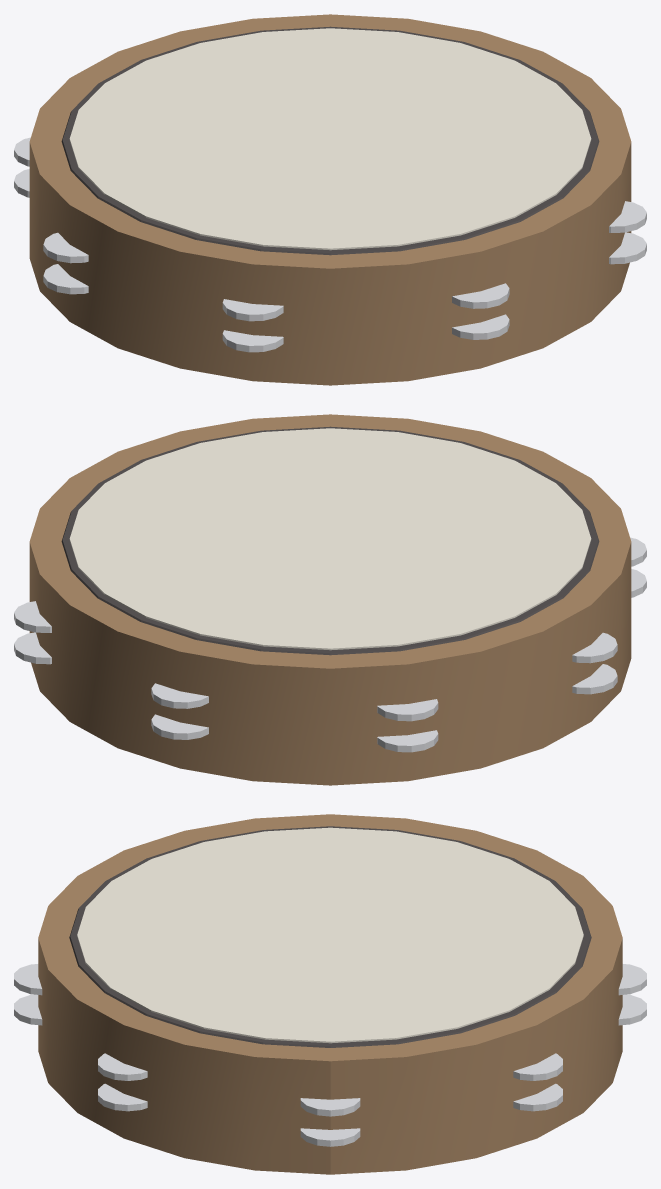
The model's file is orchestra-and-band-instruments-tambourine-6f4aeaca__39303.glb.
3 renders of one model, top to bottom at view 1: azimuth 30°, elevation 25°; view 2: azimuth 150°, elevation 25°; view 3: azimuth 270°, elevation 25°, orthographic. The views are drawn at different scales.
Visible parts, largest first — view 1: tambourine; view 2: tambourine; view 3: tambourine.
Part boxes in pixels (bbox=[...]): tambourine: bbox=[14, 14, 646, 385]; tambourine: bbox=[14, 414, 646, 785]; tambourine: bbox=[14, 814, 646, 1174].
Size of the model in its own units: 0.228 by 0.0462 by 0.2274.
